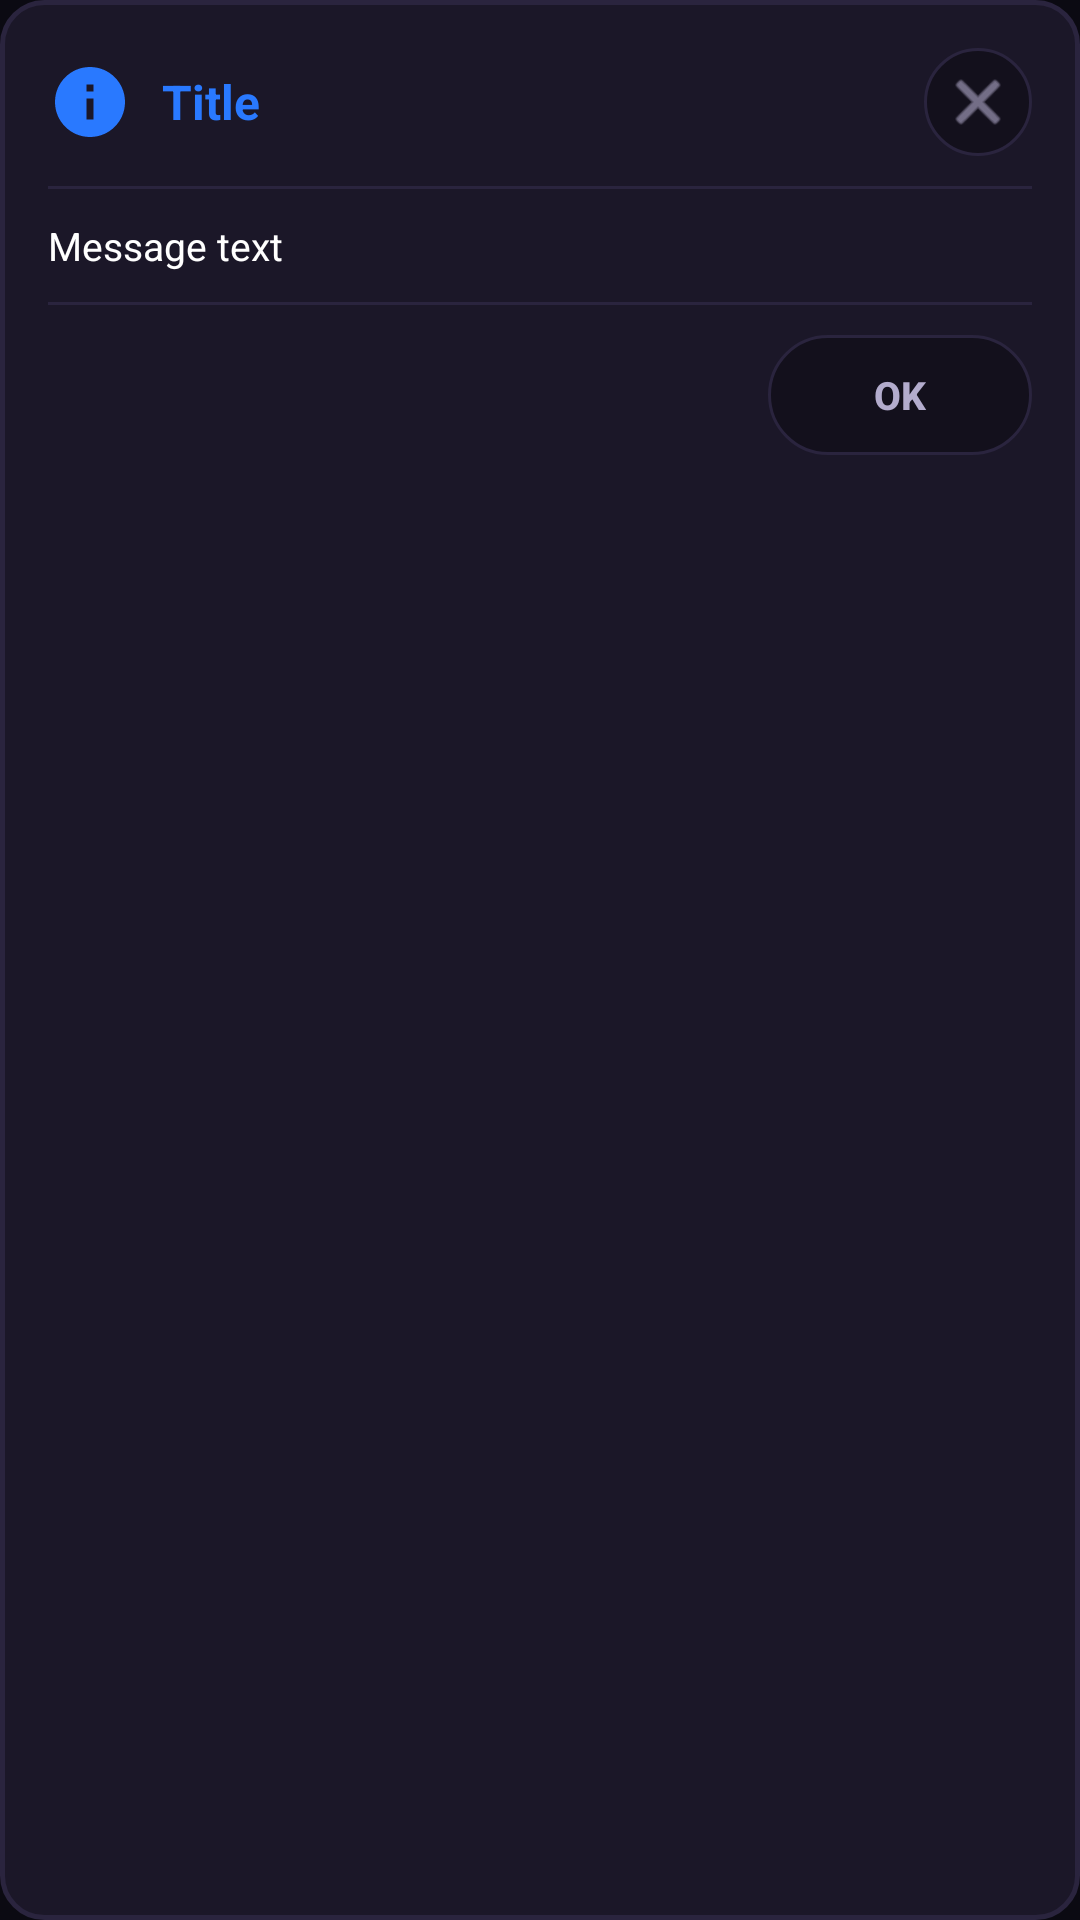

Named icons in this screenshot (1080×1920) and their bounding boxes, [left=x1, top=y1, right=x2, bottom=y2]:
Close: [left=924, top=48, right=1032, bottom=156]
info: [left=55, top=67, right=125, bottom=137]
